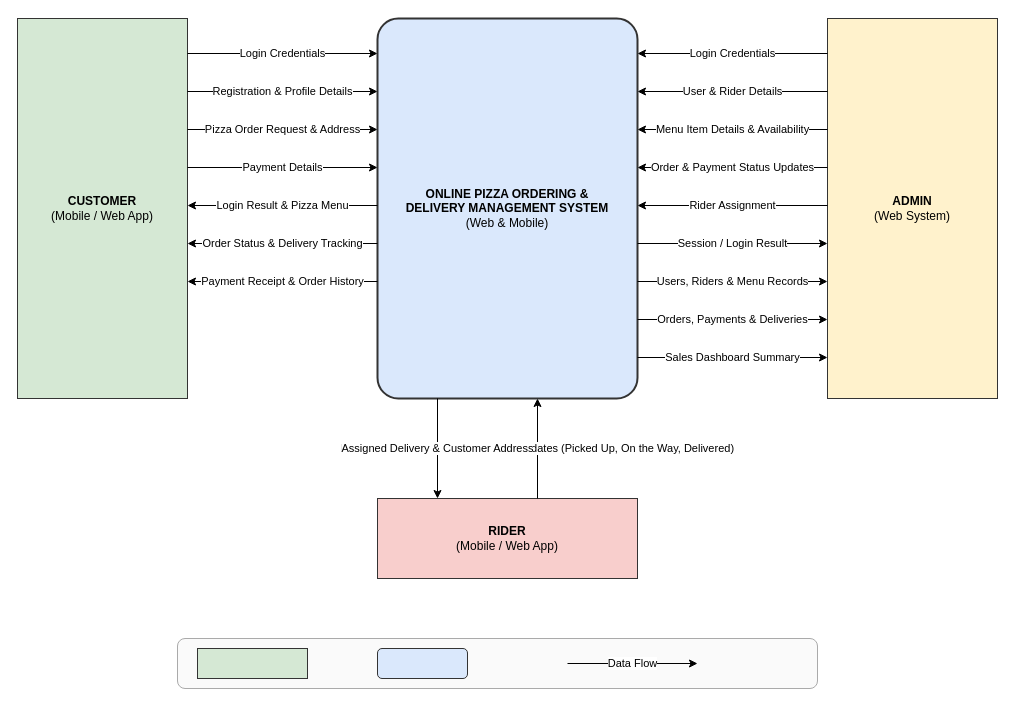
Some shapes in this 1015 by 706 pixel diagram are drawn without their labels. Each missing label, with the box of its shape:
External Entity: (196, 648, 308, 678)
Process: (376, 648, 468, 678)
